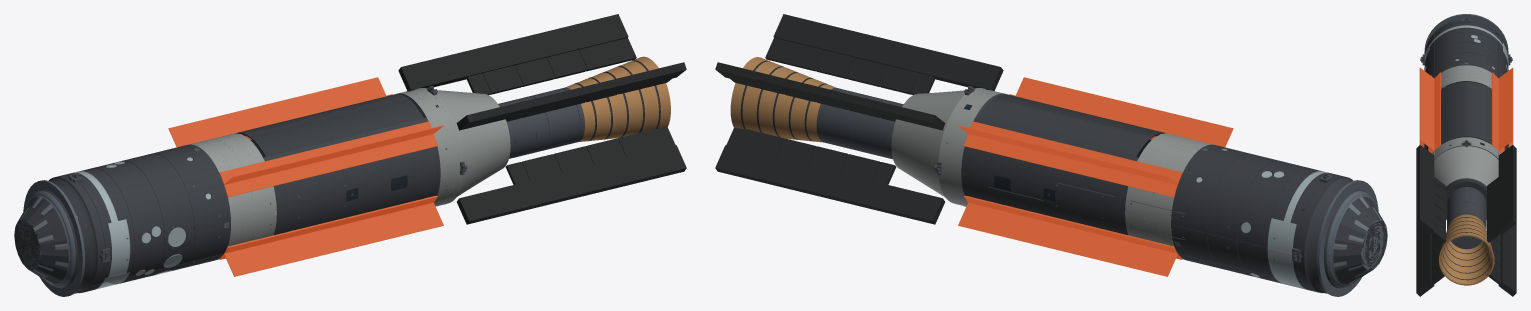
Rendered from wayfarer_exterior_B_medical_88ce19fc_metric_hard_closed.glb.
3 renders of one model, left to right at view 1: azimuth 30°, elevation 25°; view 2: azimuth 150°, elevation 25°; view 3: azimuth 270°, elevation 25°, orthographic. The views are drawn at different scales.
Visible parts, largest first — view 1: dry:armor, dry:skin_midship, dry:hotfin_220:folded_envelope, dry:hotfin_40:folded_envelope, dry:strake_220:extended_pleat_00, dry:nozzle, dry:strake_140:stowed_stack, dry:strake_40:extended_pleat_00, dry:skin_service, dry:door_port, dry:hotfin_root_40:root, dry:thrust_cone (+15 smaller); view 2: dry:armor, dry:skin_midship, dry:hotfin_320:folded_envelope, dry:hotfin_140:folded_envelope, dry:strake_320:extended_pleat_00, dry:nozzle, dry:strake_40:stowed_stack, dry:strake_140:extended_pleat_00, dry:skin_service, dry:hotfin_root_140:root, dry:door_starboard, dry:thrust_cone (+17 smaller); view 3: dry:armor, dry:nozzle, dry:thrust_cone, dry:hotfin_40:folded_envelope, dry:hotfin_140:folded_envelope, dry:reactor, dry:door_port, dry:door_starboard, dry:strake_40:extended_pleat_00, dry:strake_140:extended_pleat_00, dry:hotfin_220:folded_envelope, dry:hotfin_320:folded_envelope (+14 smaller).
Part boxes in pixels (x1,y1,x2,y2): dry:armor: [28, 144, 230, 293]; dry:skin_midship: [263, 117, 440, 235]; dry:hotfin_220:folded_envelope: [457, 145, 686, 224]; dry:hotfin_40:folded_envelope: [398, 14, 628, 90]; dry:strake_220:extended_pleat_00: [224, 202, 443, 276]; dry:nozzle: [565, 56, 670, 142]; dry:strake_140:stowed_stack: [219, 121, 437, 197]; dry:strake_40:extended_pleat_00: [168, 77, 385, 147]; dry:skin_service: [187, 133, 276, 259]; dry:door_port: [250, 98, 423, 156]; dry:hotfin_root_40:root: [466, 38, 636, 94]; dry:thrust_cone: [437, 90, 510, 196]; dry:armor: [1171, 144, 1373, 293]; dry:skin_midship: [961, 117, 1138, 235]; dry:hotfin_320:folded_envelope: [715, 145, 944, 224]; dry:hotfin_140:folded_envelope: [773, 14, 1003, 90]; dry:strake_320:extended_pleat_00: [958, 202, 1177, 276]; dry:nozzle: [730, 57, 836, 142]; dry:strake_40:stowed_stack: [964, 121, 1182, 197]; dry:strake_140:extended_pleat_00: [1016, 77, 1233, 147]; dry:skin_service: [1125, 133, 1214, 259]; dry:hotfin_root_140:root: [765, 38, 935, 94]; dry:door_starboard: [978, 98, 1151, 156]; dry:thrust_cone: [891, 90, 964, 197]; dry:armor: [1424, 19, 1508, 78]; dry:nozzle: [1438, 214, 1494, 285]; dry:thrust_cone: [1434, 146, 1498, 220]; dry:hotfin_40:folded_envelope: [1498, 145, 1516, 234]; dry:hotfin_140:folded_envelope: [1416, 145, 1434, 234]; dry:reactor: [1447, 187, 1486, 249]; dry:door_port: [1444, 82, 1466, 142]; dry:door_starboard: [1466, 82, 1488, 142]; dry:strake_40:extended_pleat_00: [1498, 68, 1513, 150]; dry:strake_140:extended_pleat_00: [1419, 68, 1434, 150]; dry:hotfin_220:folded_envelope: [1416, 224, 1434, 296]; dry:hotfin_320:folded_envelope: [1498, 224, 1516, 296].
Size of the model in its own units: 54.5 by 9.92 by 10.73.
